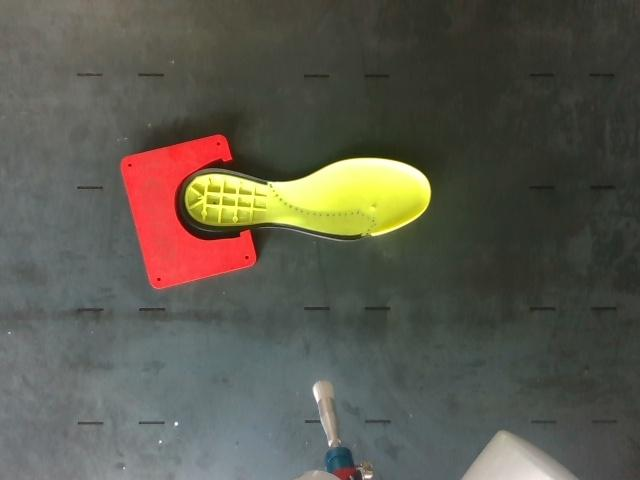shoes: (180, 159, 430, 240)
